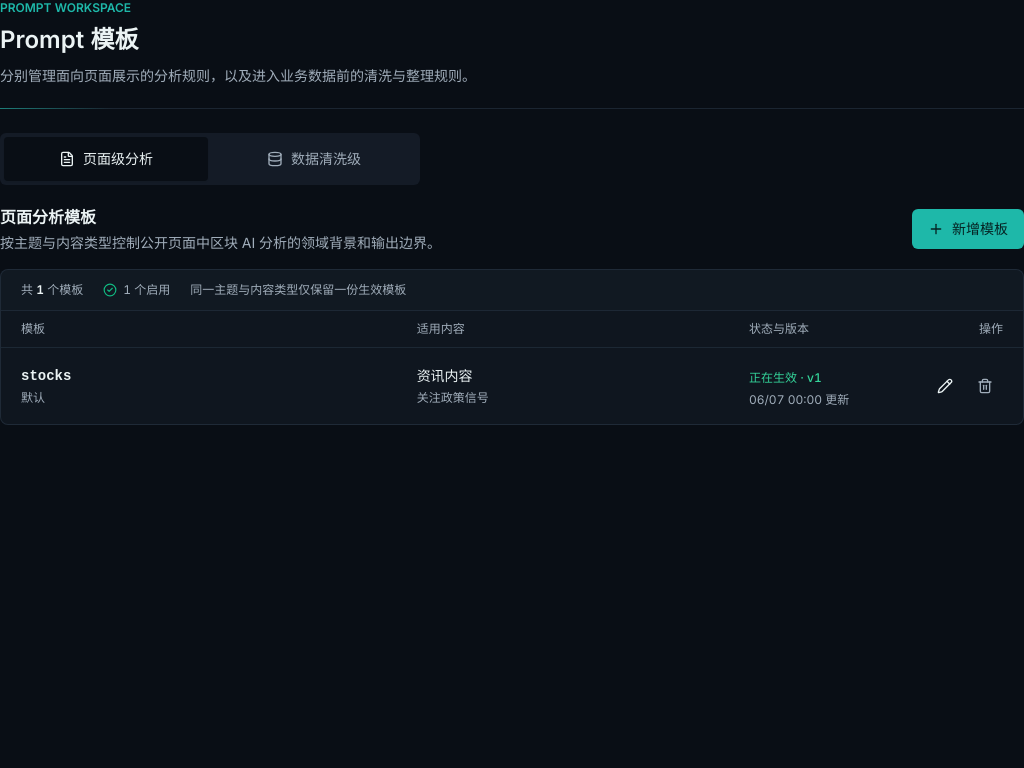
AdminPromptTemplatesPage › opens page template create and edit forms in a dialog
Expected: the field labelled "主题 slug" is not shown
Click the button "新增模板" at coordinates (968, 229), box [912,209,1023,249]
(page scrolled)
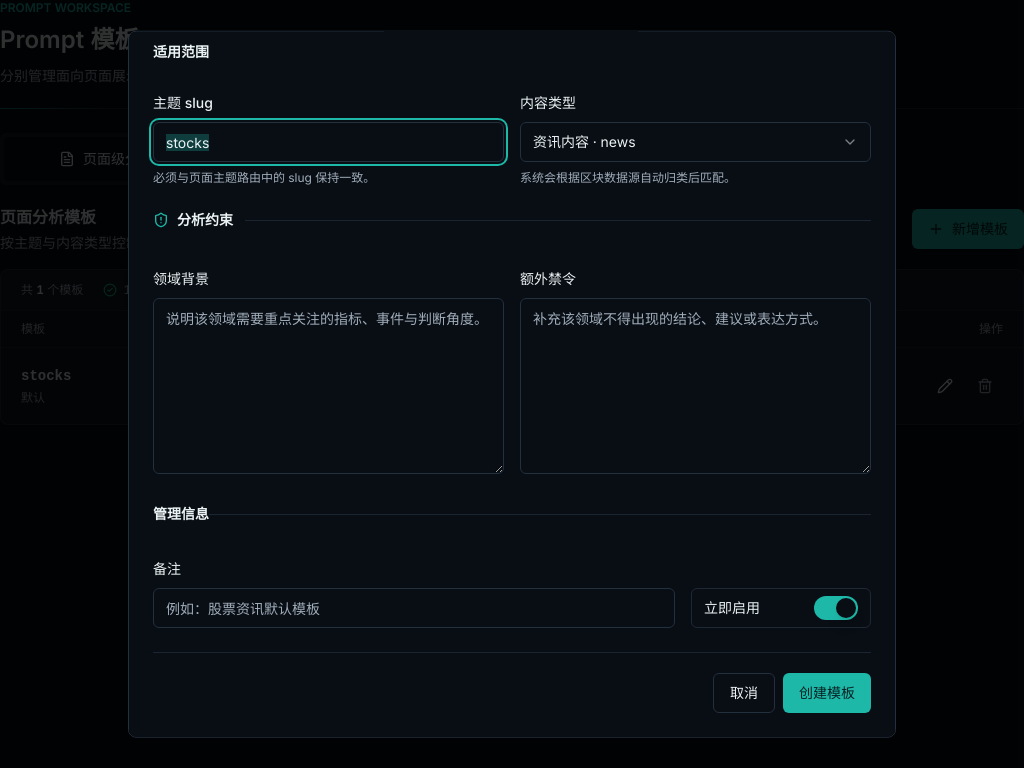
Now the dialog "新增页面分析模板" is shown
Now the field labelled "主题 slug" is shown, box [153,122,504,162]
Now the dropdown named "内容类型" is shown, box [520,122,871,162]
Click the button "取消" at coordinates (744, 693), box [713,673,775,713]
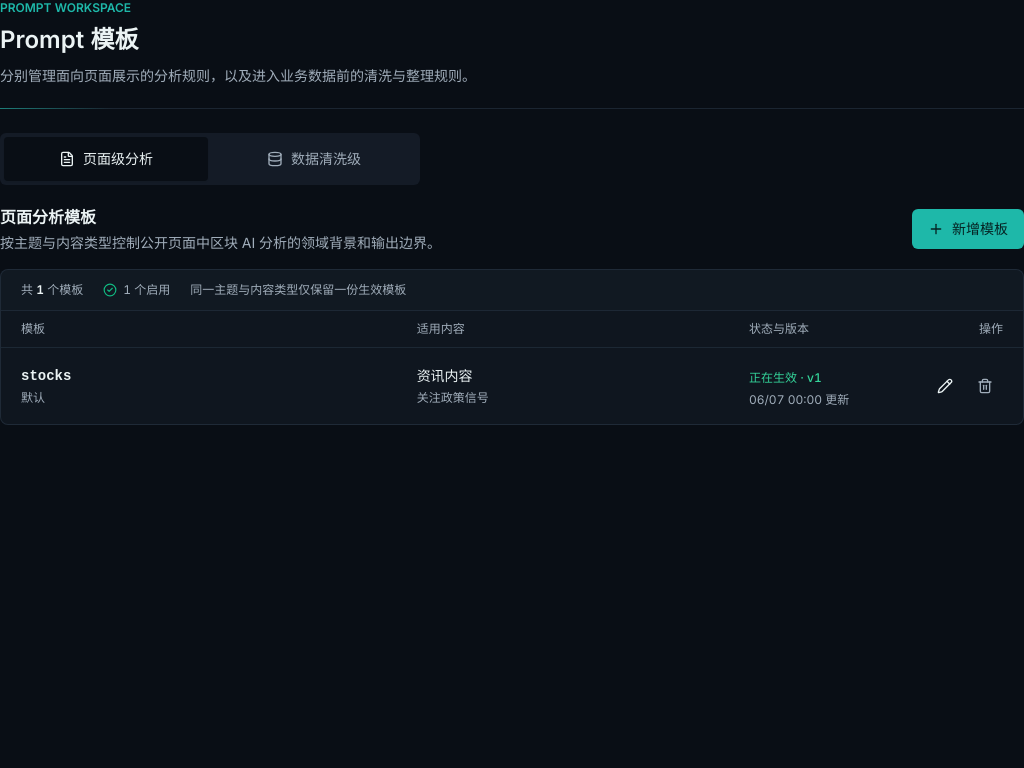
Click the button named "编辑 stocks" at coordinates (945, 386), box [927,368,963,404]
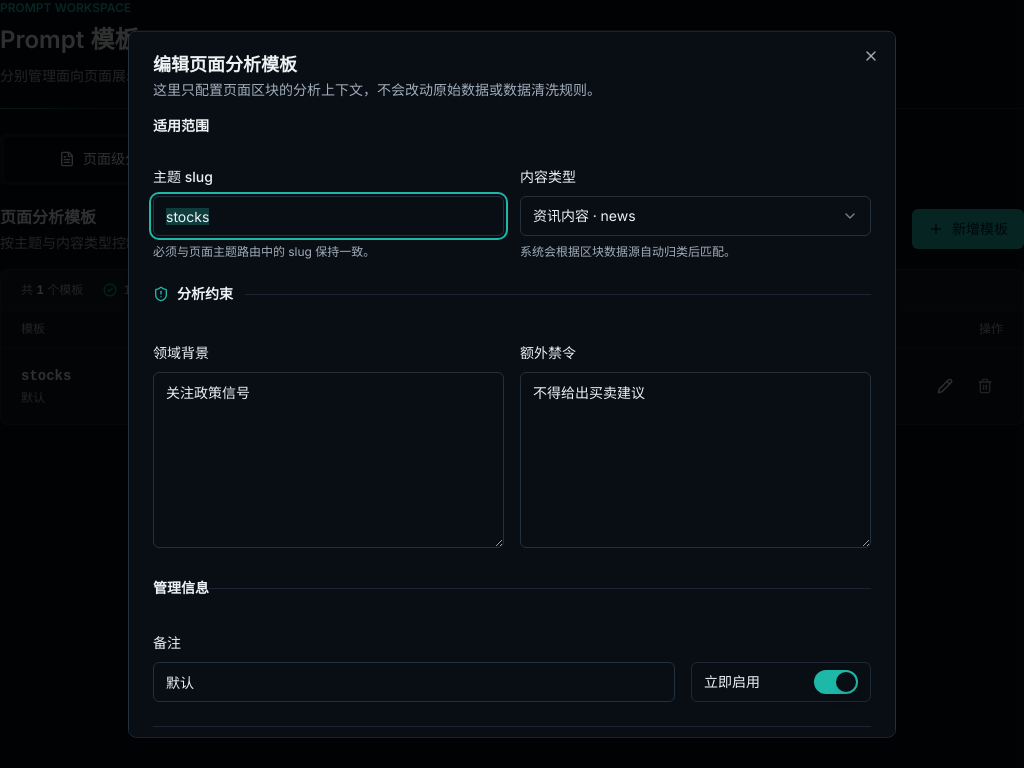
Now the dialog "编辑页面分析模板" is shown
Now the text box showing "关注政策信号" is shown, box [153,372,504,548]
